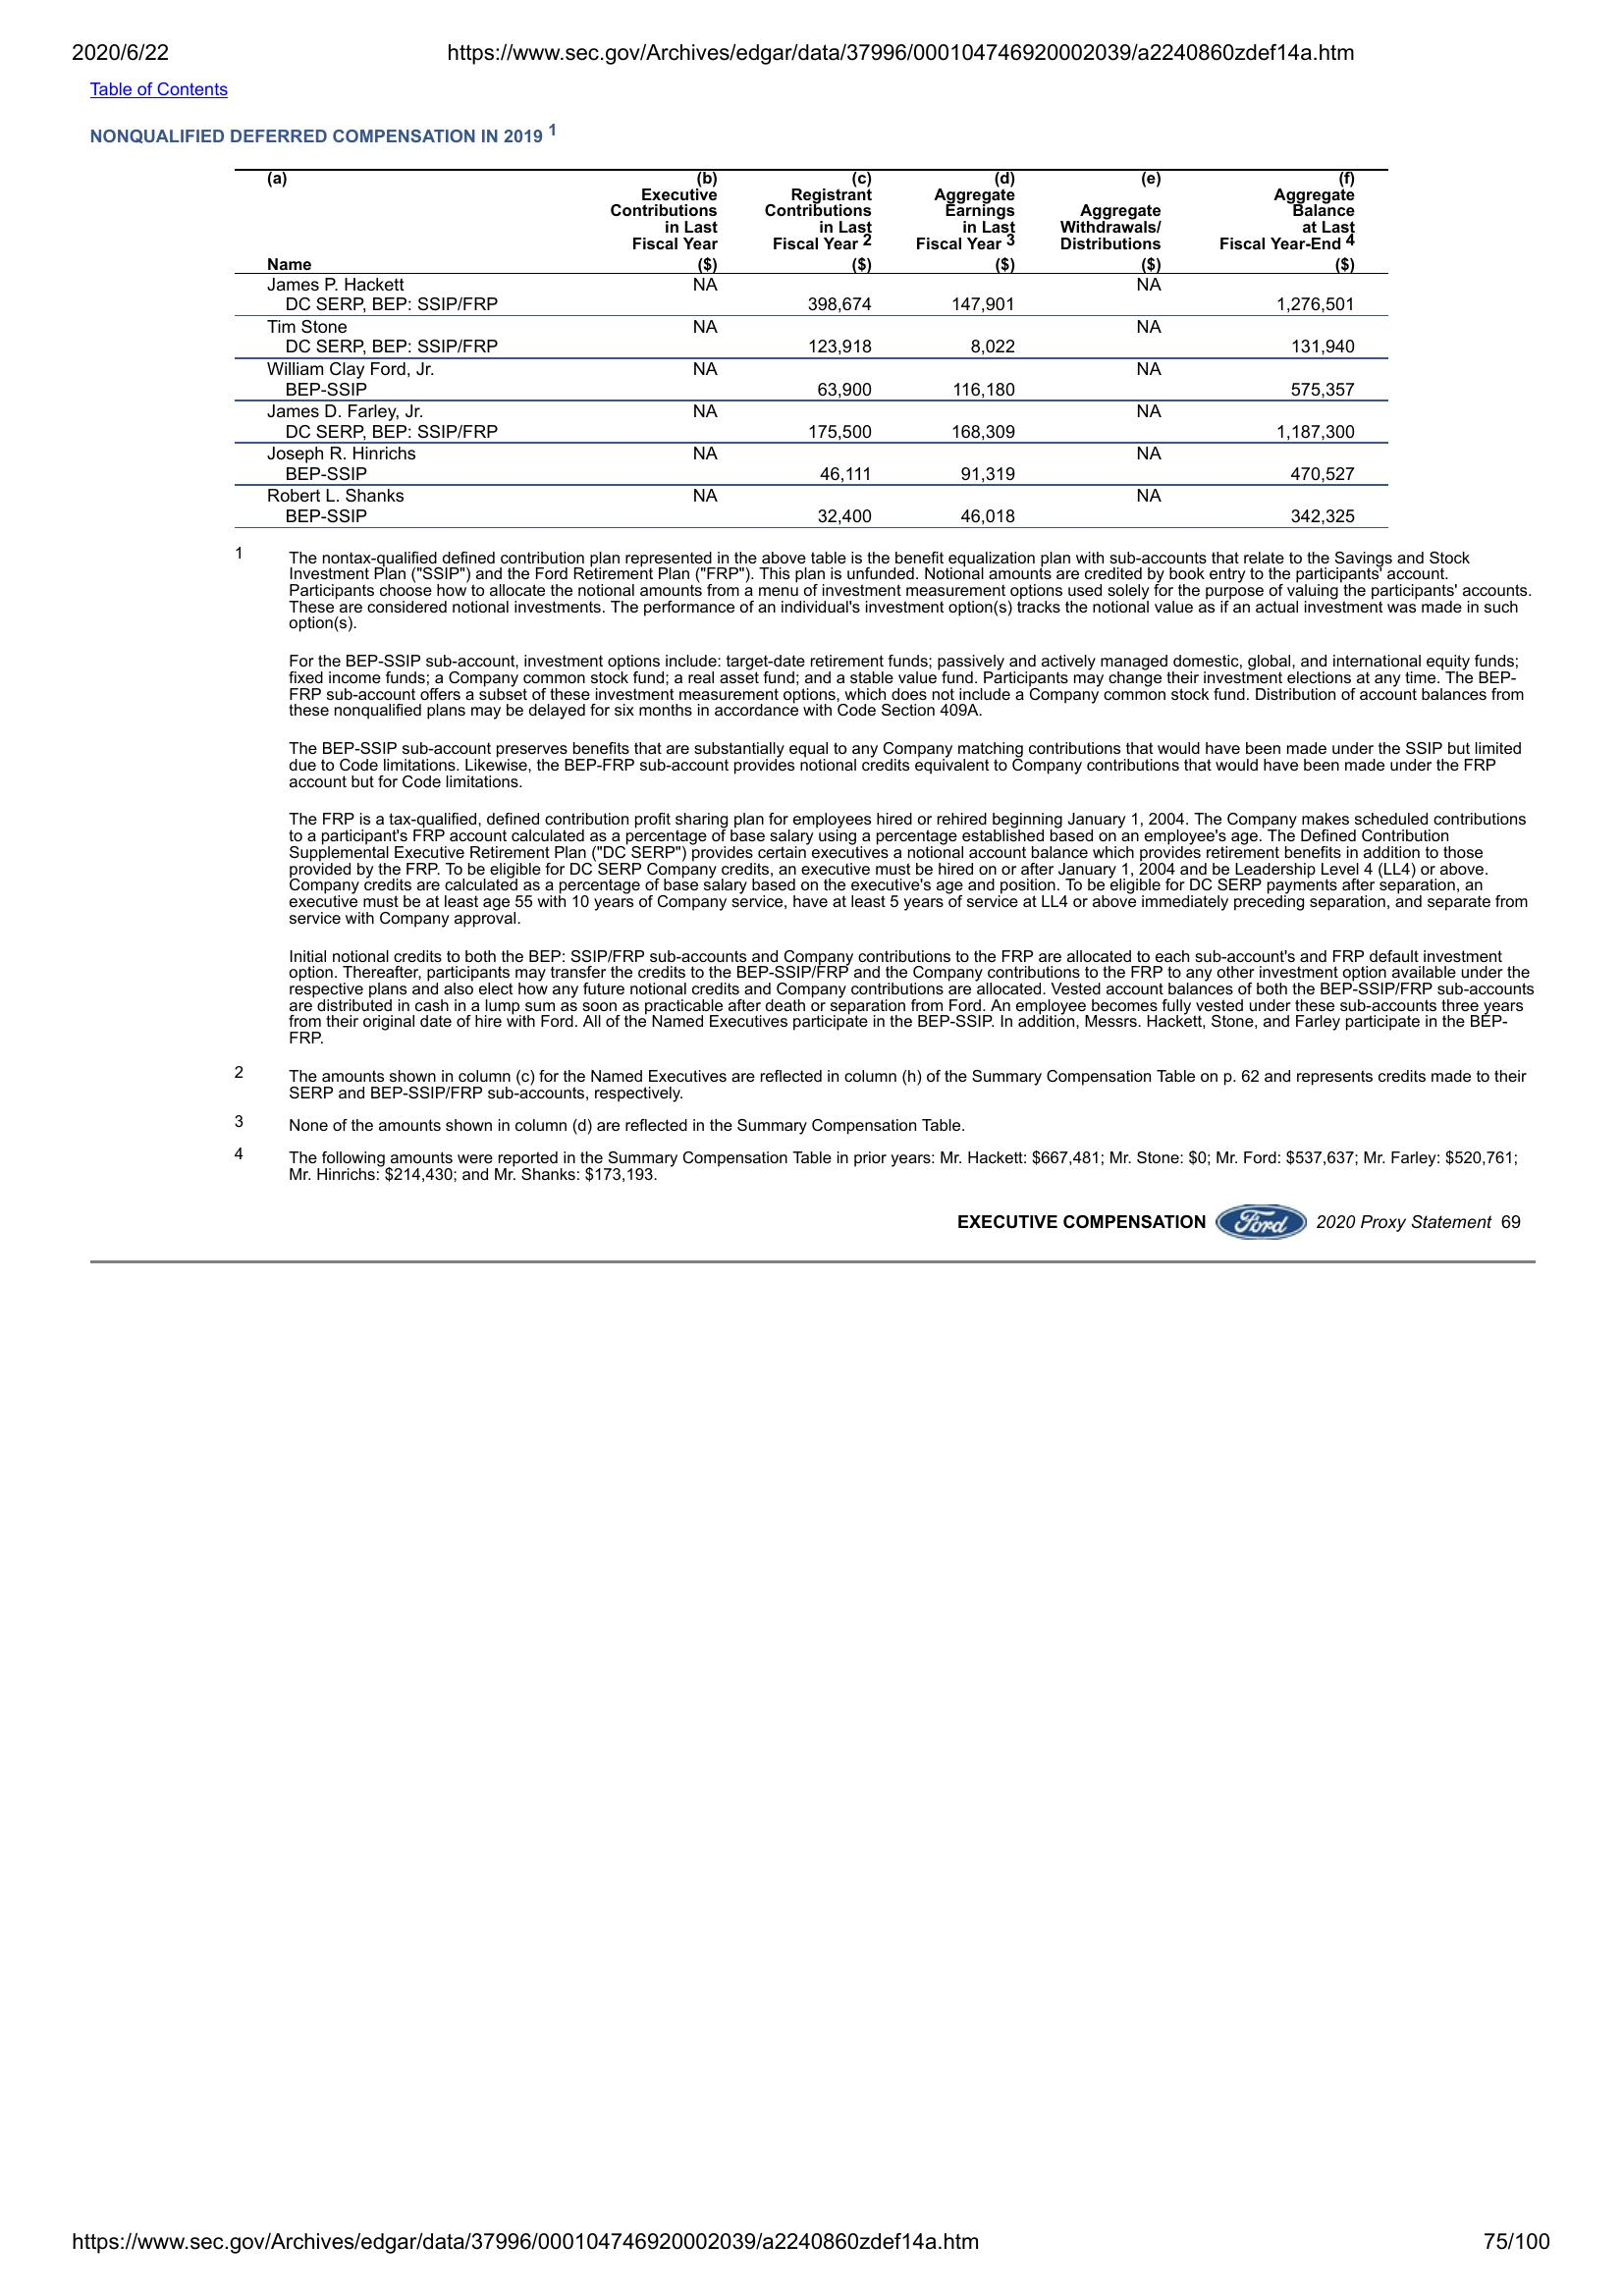table: (230, 161, 1395, 532)
